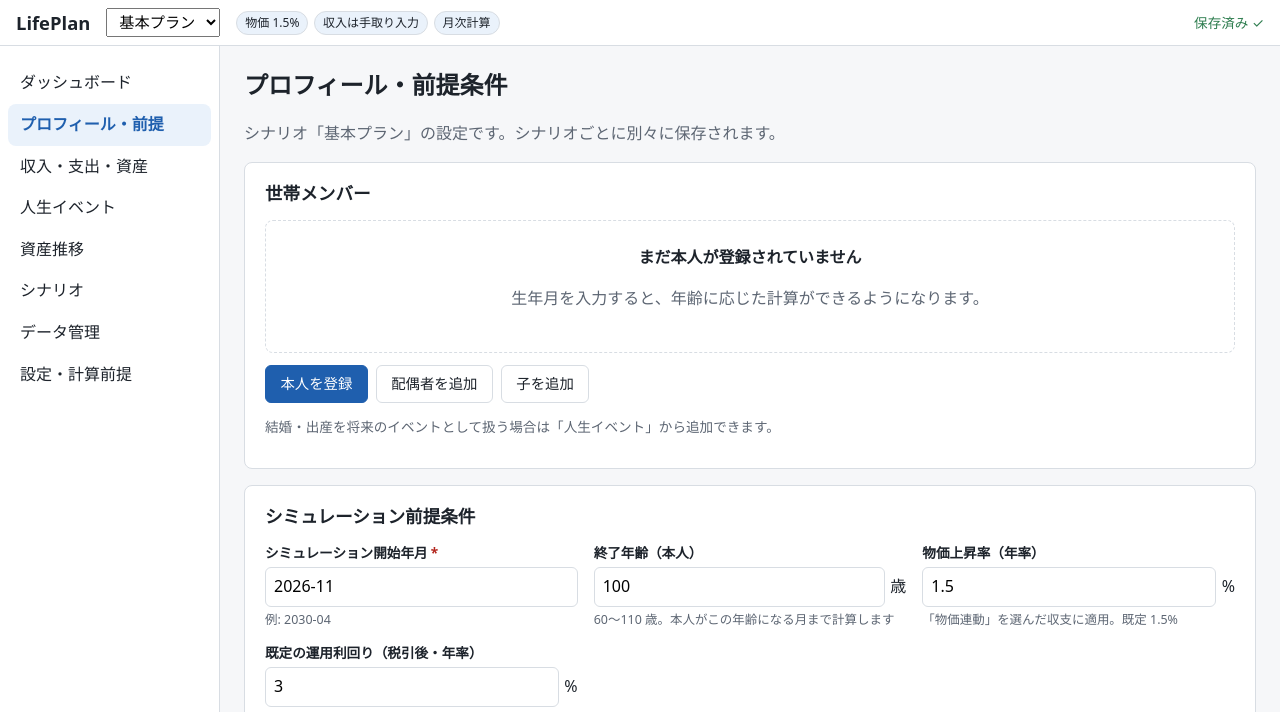
Test: 画面の基本操作 › 前提条件の範囲外の値はエラー
The width and height of the screenshot is (1280, 712).
Check: the message "保存済み ✓" is shown, box [1194, 12, 1264, 34]
Replace the text in the field labelled "終了年齢（本人）" with "200" at (739, 587), box [594, 567, 885, 607]
(page scrolled)
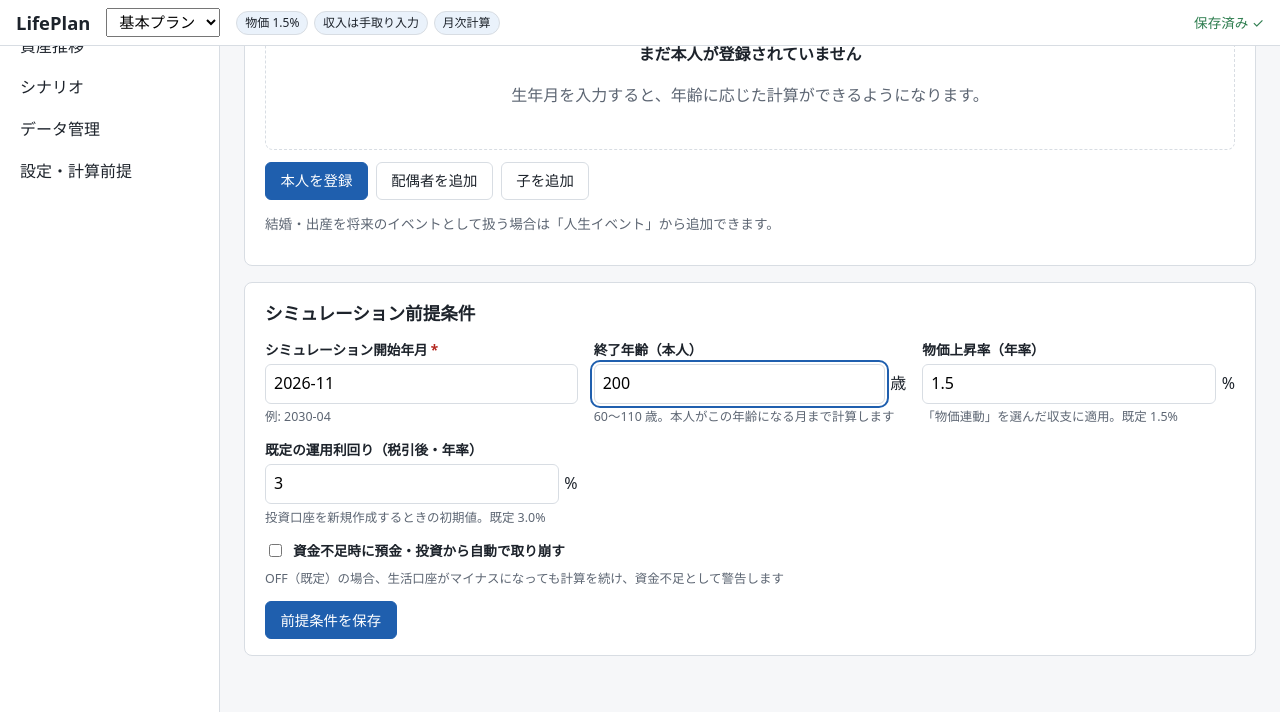
Click the button "前提条件を保存".
click(331, 620)  # box [265, 601, 396, 639]
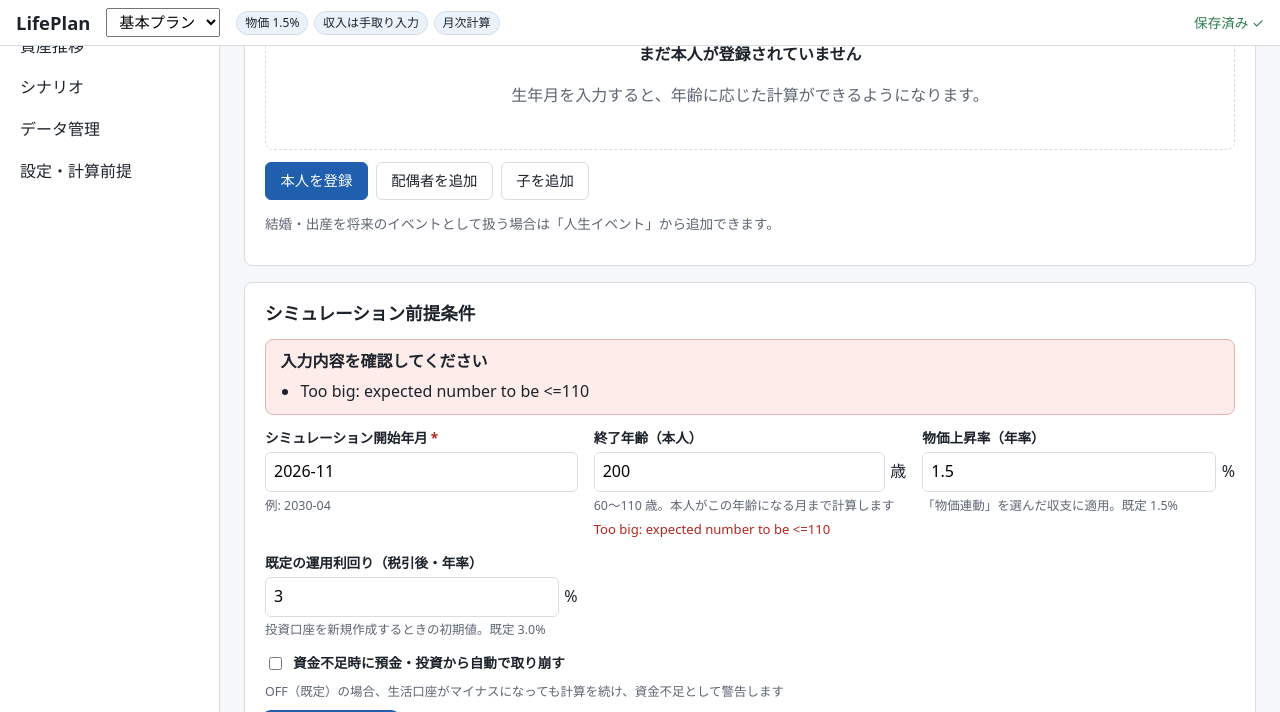
Check: the 5th list item is shown, box [300, 380, 589, 402]
